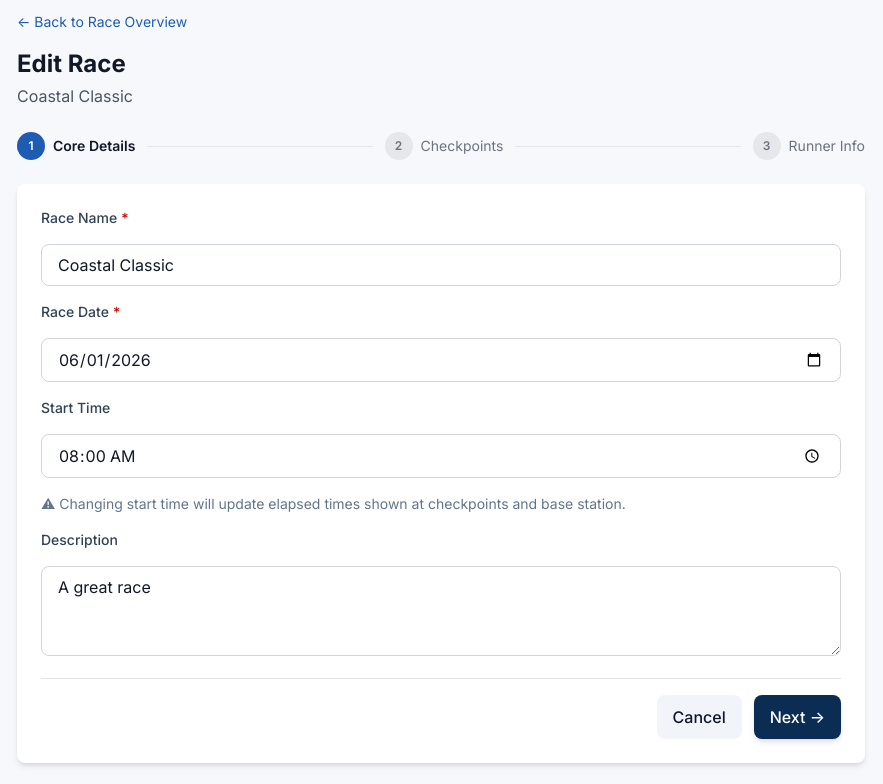
Scenario: RaceEditView › renders existing checkpoint names after advancing to Checkpoints step
The width and height of the screenshot is (883, 784).
Check: the field showing "Coastal Classic" is shown, box left=41, top=244, right=841, bottom=286
Click the button "Next →".
click(797, 717)  # box left=754, top=695, right=841, bottom=739
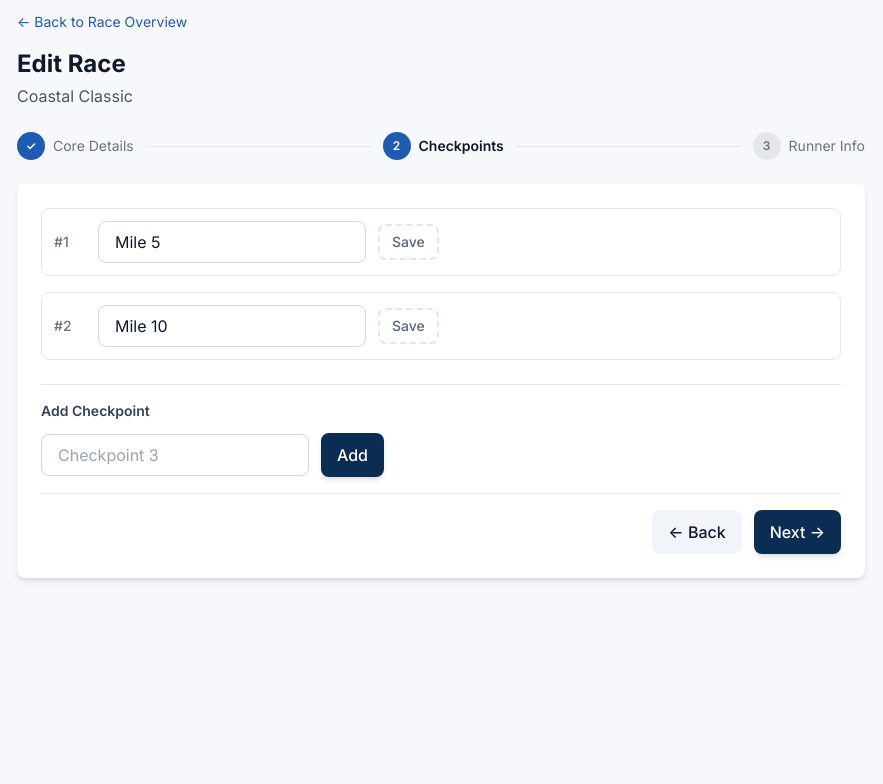
Check: the field showing "Mile 5" is shown, box left=98, top=221, right=366, bottom=263
Check: the field showing "Mile 10" is shown, box left=98, top=305, right=366, bottom=347
